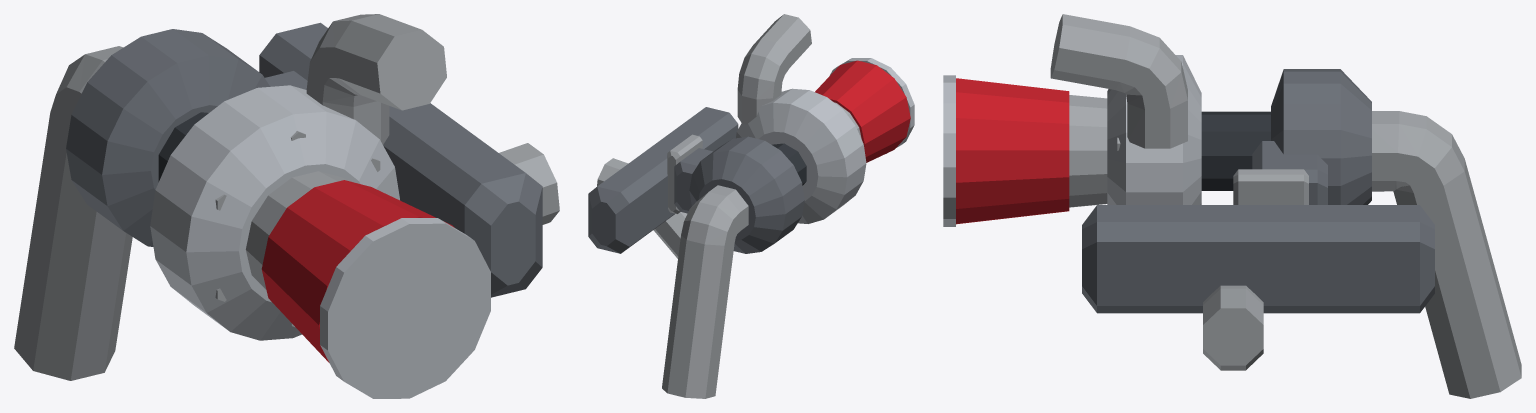
The model's file is kaze_gt.glb.
3 views of the same model, side by side, from view 1: azimuth 30°, elevation 25°; view 2: azimuth 150°, elevation 25°; view 3: azimuth 270°, elevation 25° (orthographic). The views are drawn at different scales.
Parts seen in each view (by area): view 1: model; view 2: model; view 3: model.
Boxes of the visible parts, x1,y1,x2,y2 form: model: (14, 14, 559, 398); model: (588, 14, 914, 398); model: (943, 14, 1521, 398).
Bounding box in the file's own units: 0.3056 × 0.3478 × 0.4587.
Materials: 2 (1 with a texture image).
